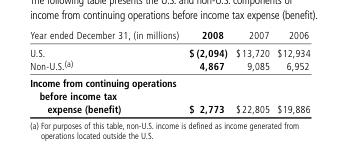table: (29, 28, 309, 114)
table column: (29, 28, 183, 114), (183, 28, 230, 114), (230, 28, 272, 114), (272, 28, 309, 114)
table column header: (29, 28, 309, 43)
table row: (29, 74, 309, 114), (29, 58, 309, 74), (29, 28, 309, 43), (29, 43, 309, 58)
